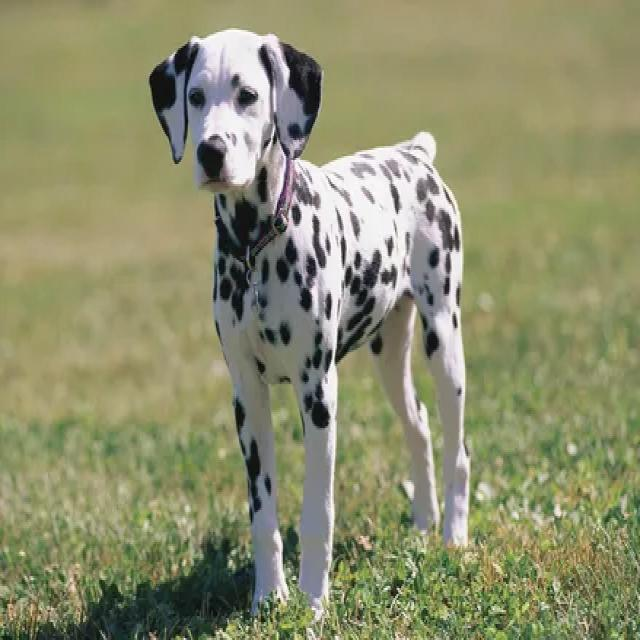Dog: (146, 24, 476, 590)
